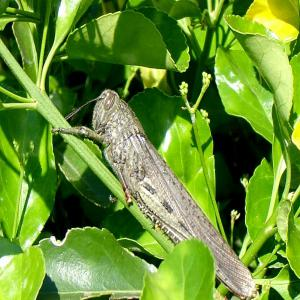locust: (94, 79, 260, 300)
